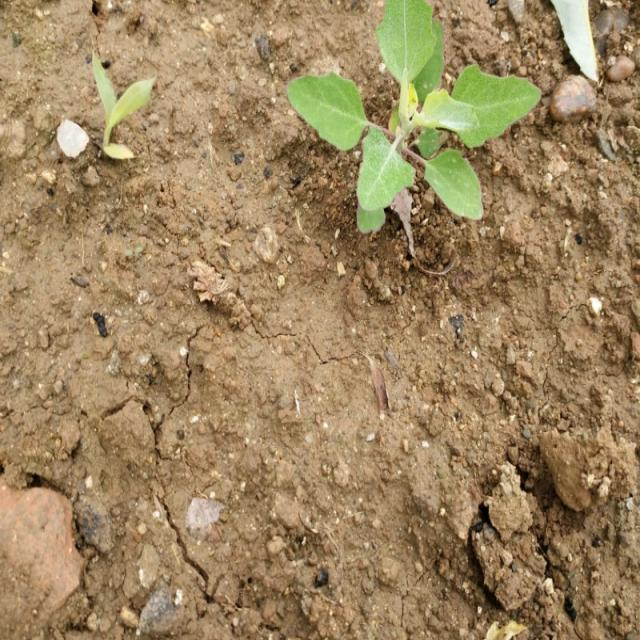ca: (287, 0, 542, 231)
